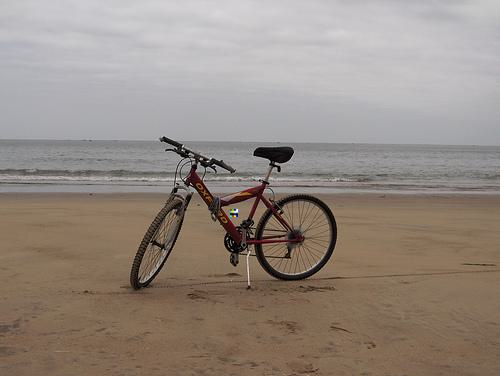car: (130, 136, 339, 290)
